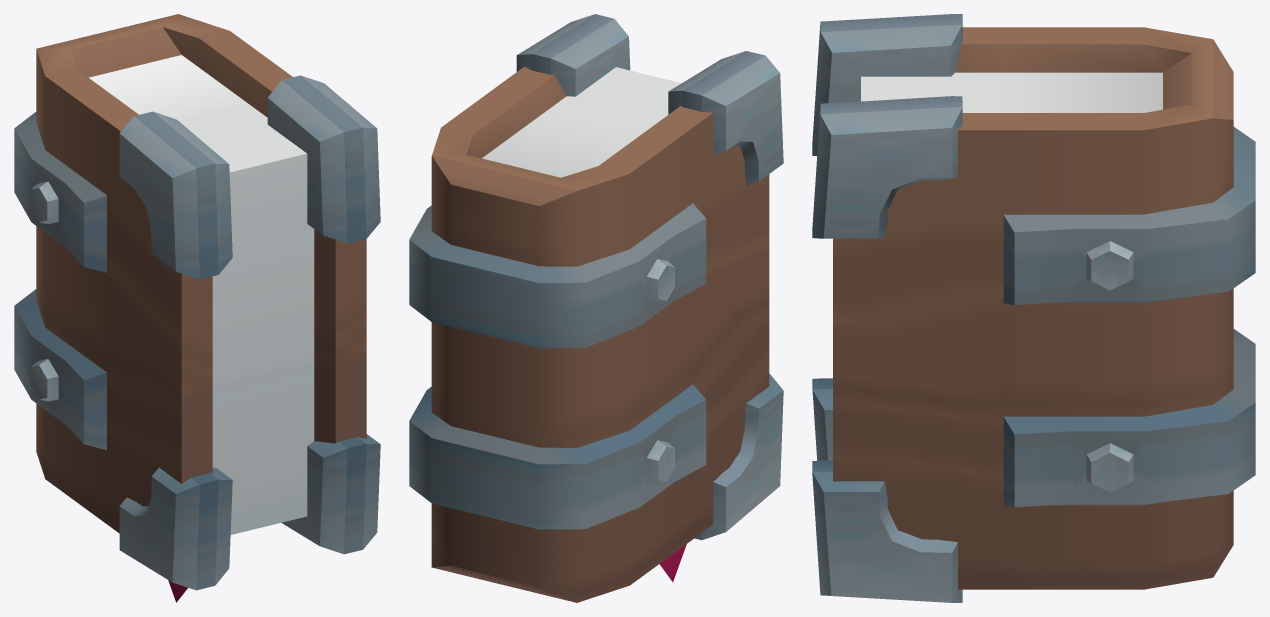
The model's file is journal-closed.glb.
3 views of the same model, side by side, from view 1: azimuth 30°, elevation 25°; view 2: azimuth 150°, elevation 25°; view 3: azimuth 270°, elevation 25° (orthographic). The views are drawn at different scales.
Visible parts, largest first — view 1: journal_closed; view 2: journal_closed; view 3: journal_closed.
Part boxes in pixels (x1,y1,x2,y2): journal_closed: (14,14,380,602); journal_closed: (409,14,783,602); journal_closed: (812,14,1255,602).
Size of the model in its own units: 0.3835 by 0.7914 by 0.5691.
Materials: 1 (1 with a texture image).
